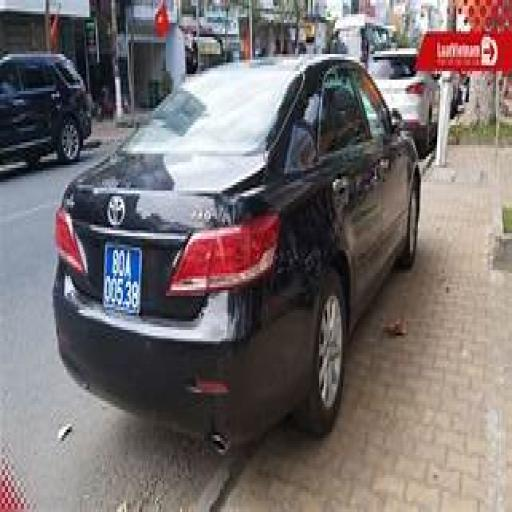place: (104, 251, 142, 309)
